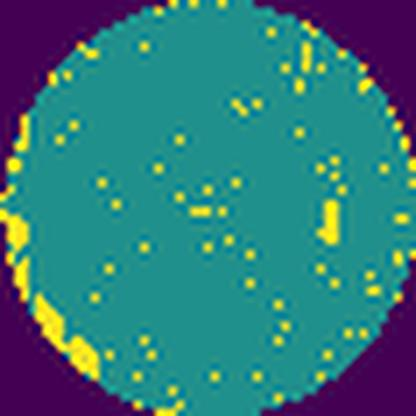Edge-Loc: (34, 292, 102, 383), (0, 208, 34, 306)
